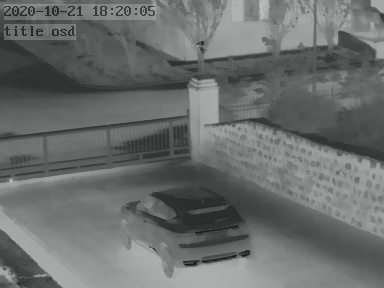vehicle: (119, 188, 263, 280)
